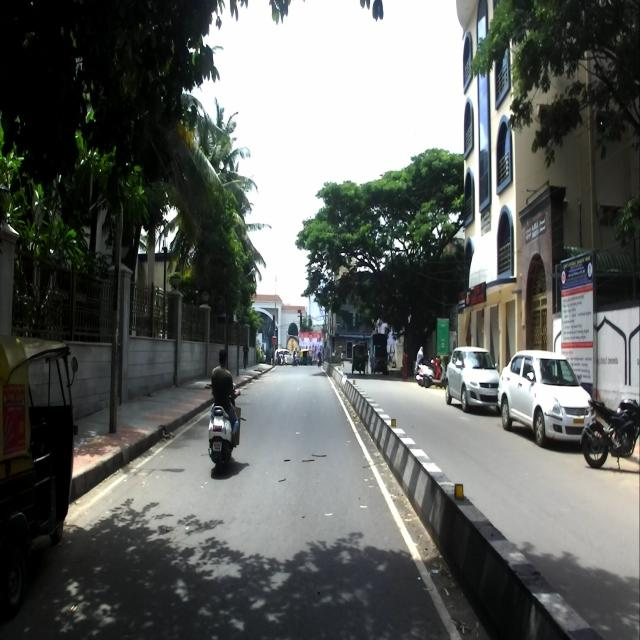Car_Maruti-Suzuki: (497, 350, 595, 450)
autorickshaw: (0, 330, 79, 615)
motorcycle_bajaj: (580, 392, 640, 473)
scooter: (206, 385, 241, 476)
